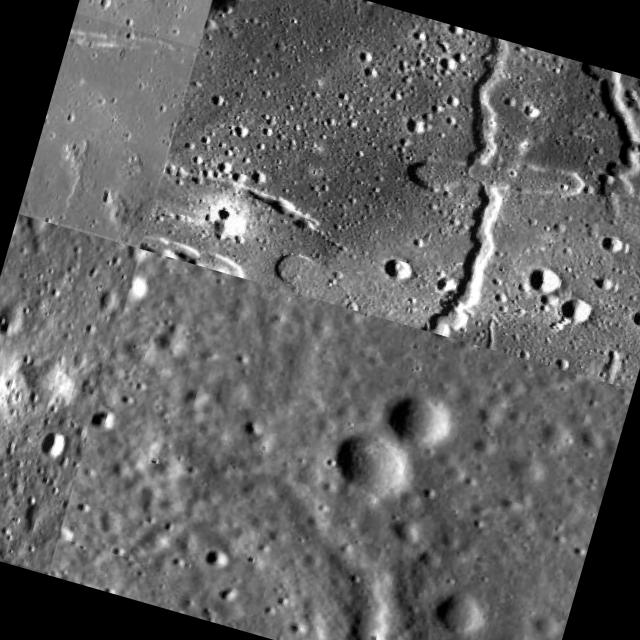rille: (117, 435, 516, 640), (384, 29, 552, 340), (18, 13, 196, 246), (0, 360, 96, 572), (537, 59, 640, 208)
